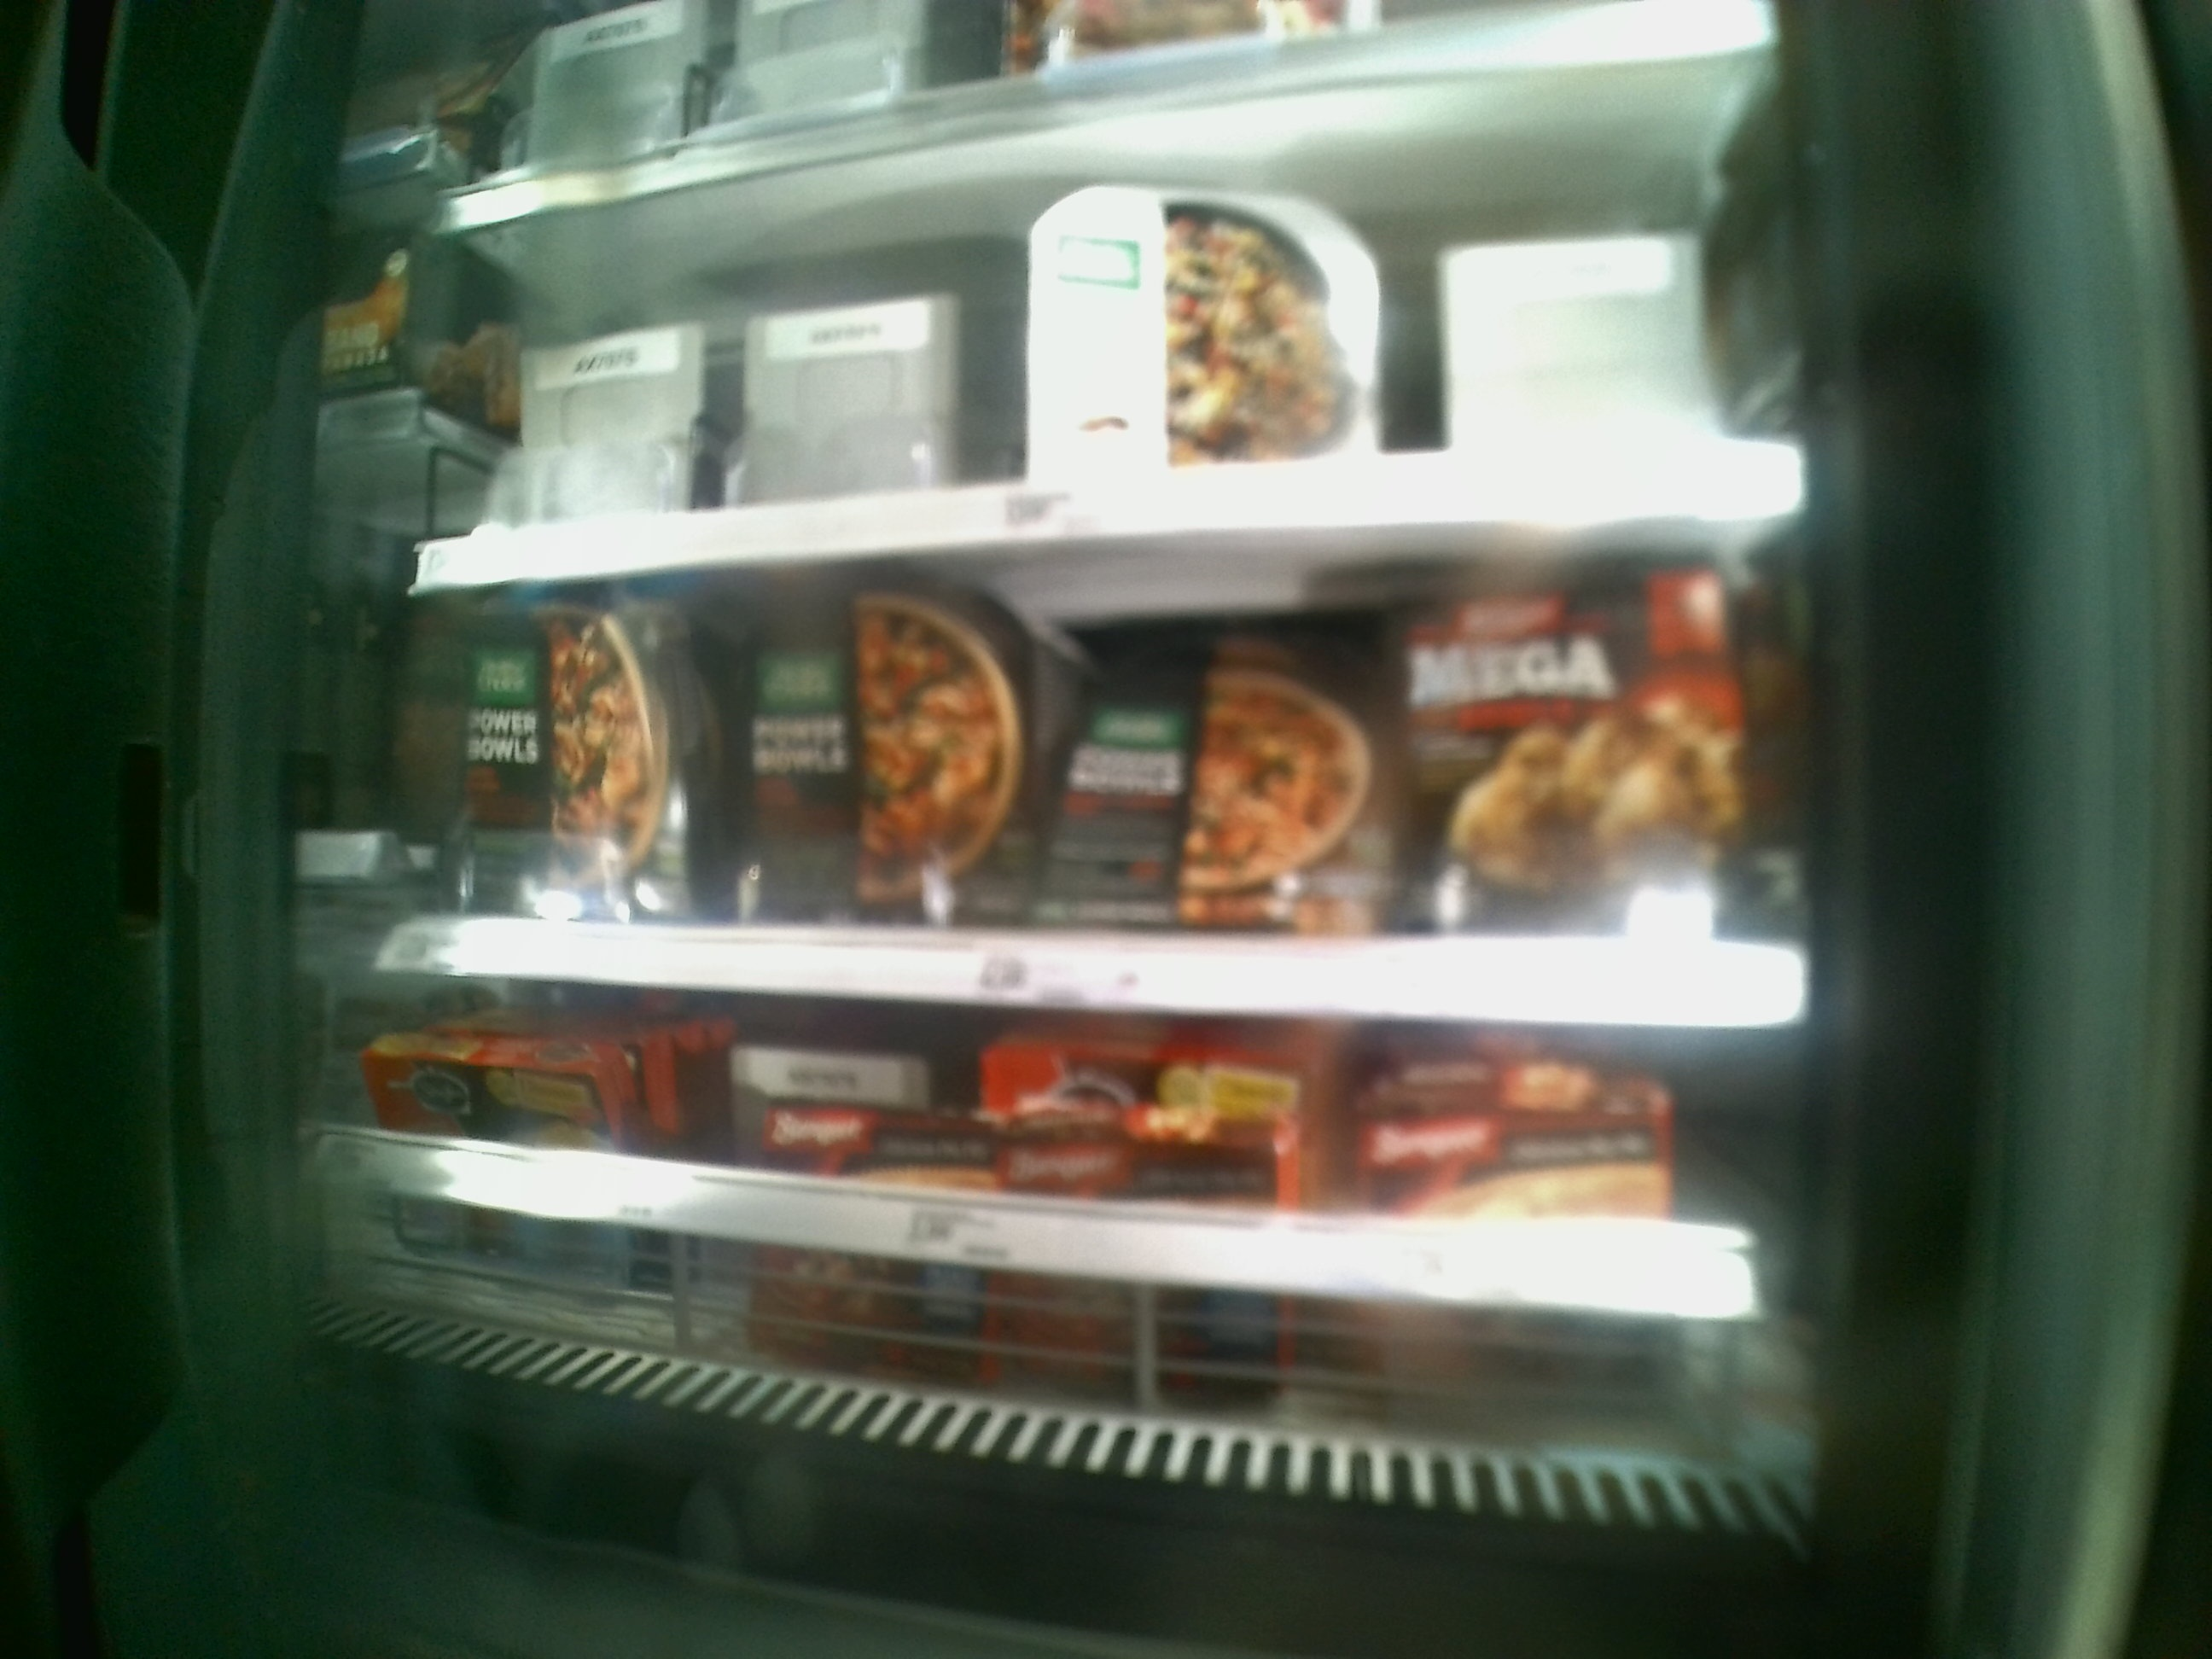Shelf: (380, 532, 1806, 1035), (371, 972, 1771, 1396)
